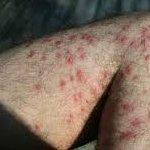Ants: (69, 89, 91, 107), (117, 127, 136, 144), (141, 24, 149, 61), (116, 97, 133, 113), (129, 116, 145, 128), (115, 32, 129, 44), (80, 33, 95, 43), (56, 78, 67, 89), (75, 47, 85, 59), (27, 48, 37, 59), (54, 52, 65, 61), (76, 70, 84, 81), (124, 64, 132, 75), (39, 52, 47, 63), (67, 32, 76, 41), (65, 54, 73, 64), (32, 81, 40, 91), (53, 38, 61, 47), (118, 69, 124, 80), (130, 39, 136, 47), (69, 75, 75, 82)
